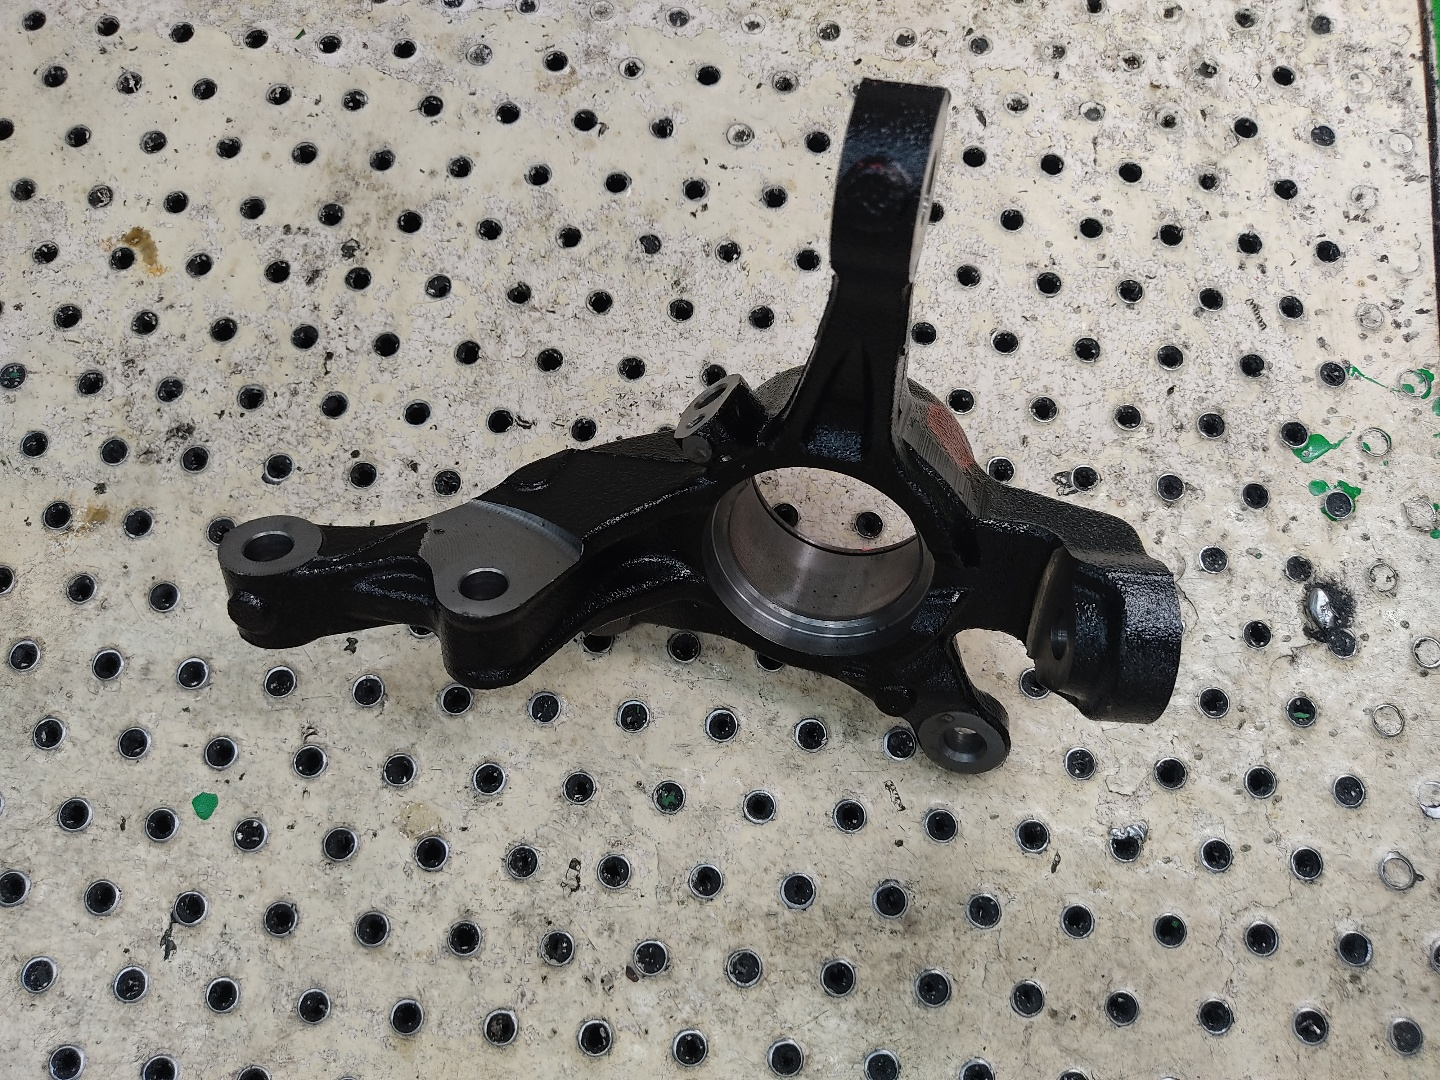abs-rh: (203, 67, 1195, 784)
